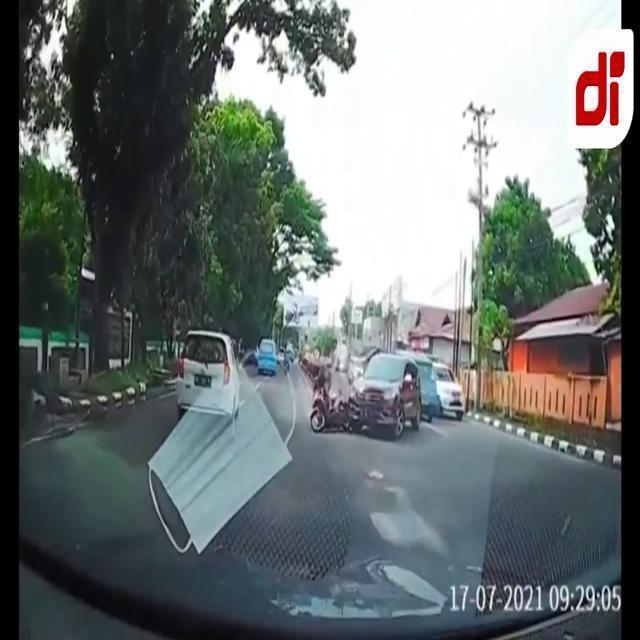accident: (308, 351, 424, 441)
non-accident: (257, 338, 291, 378), (334, 345, 364, 385)
